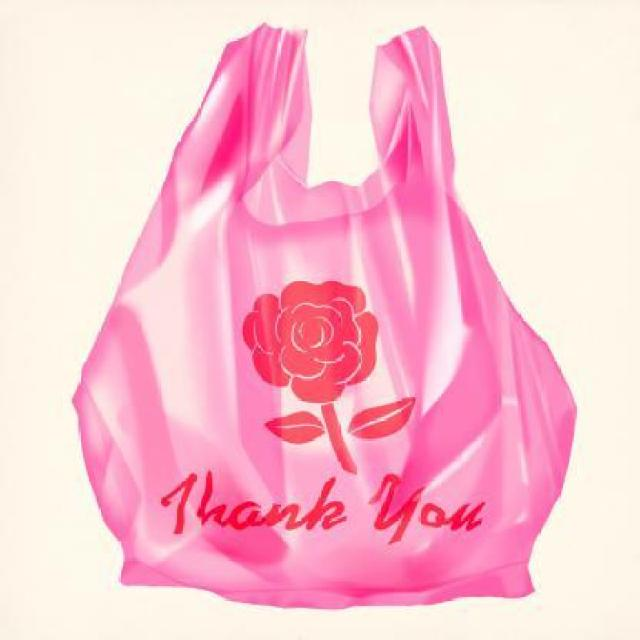plastic bag: (71, 22, 584, 606)
